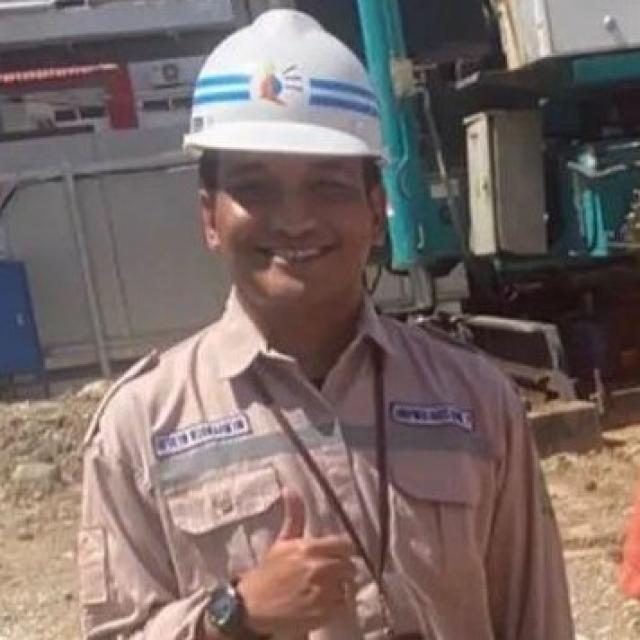safetyhelmet: (181, 6, 396, 181)
